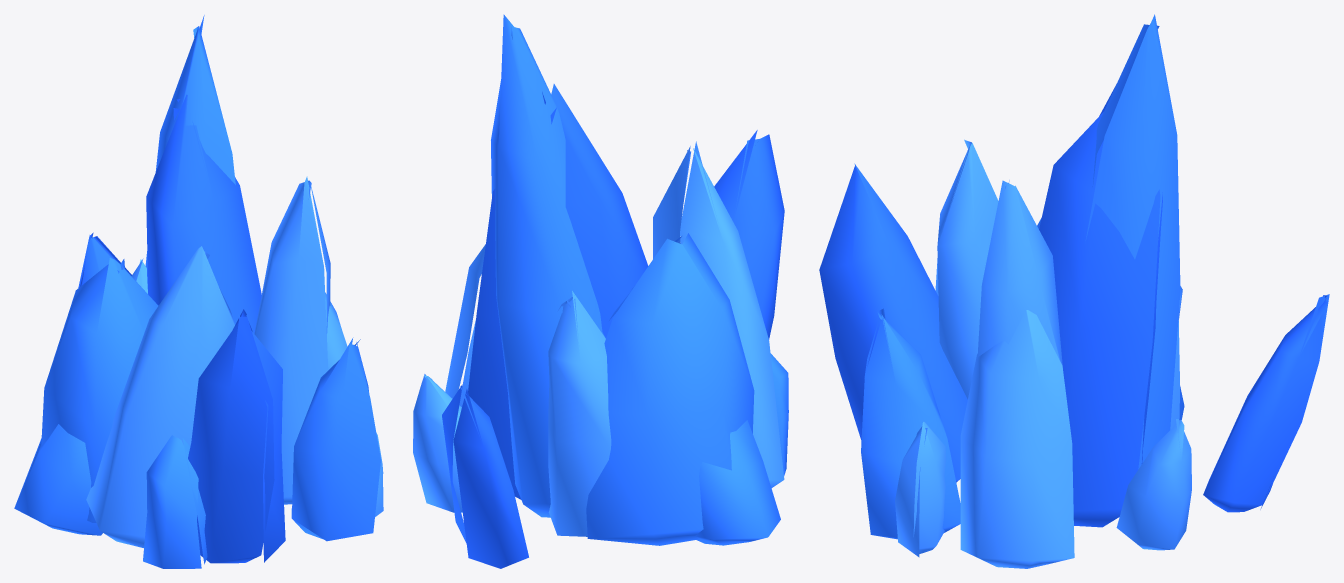
File: mineral_patch.glb
3 views of the same model, side by side, from view 1: azimuth 30°, elevation 25°; view 2: azimuth 150°, elevation 25°; view 3: azimuth 270°, elevation 25° (orthographic). The views are drawn at different scales.
Size of the model in its own units: 1.87 by 2.5 by 2.26.
